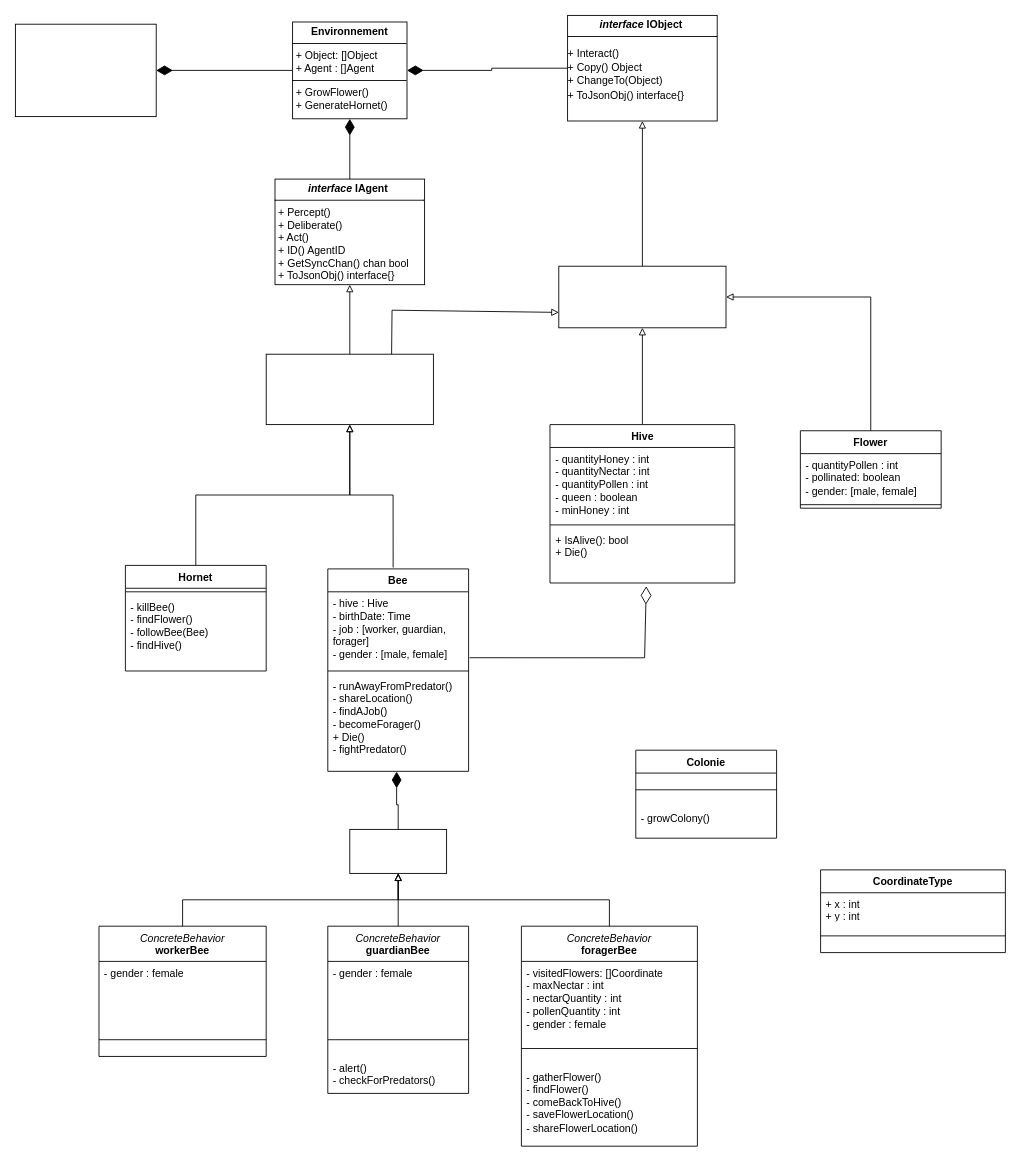
Image size: 1021x1164. Some labels were removed from this diagram. Each missing label, with the centre of its shape:
<<Abstract>> Agent - speed : int: point (349, 389)
<<Abstract>> Object - position : Coordinate: point (642, 296)
Simulation + Env : Environnement + Run() + Log() + Print(): point (85, 70)
«interface» BeeBehavior: point (398, 851)
